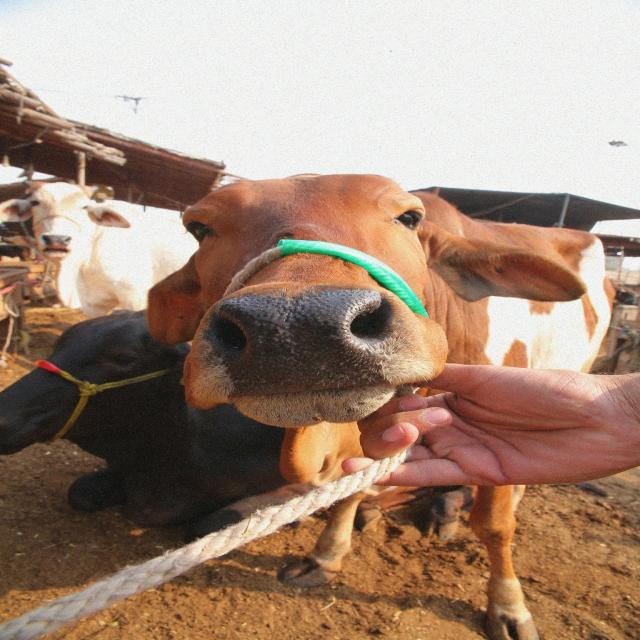muzzles: (196, 278, 414, 406)
